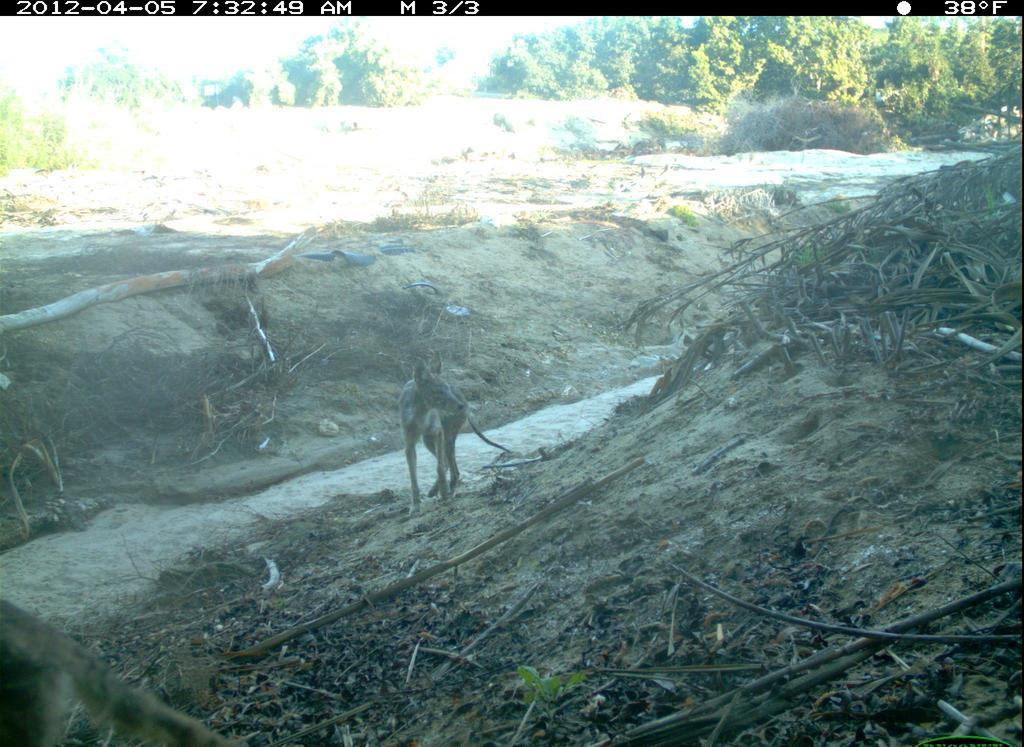coyote: (393, 349, 517, 521)
